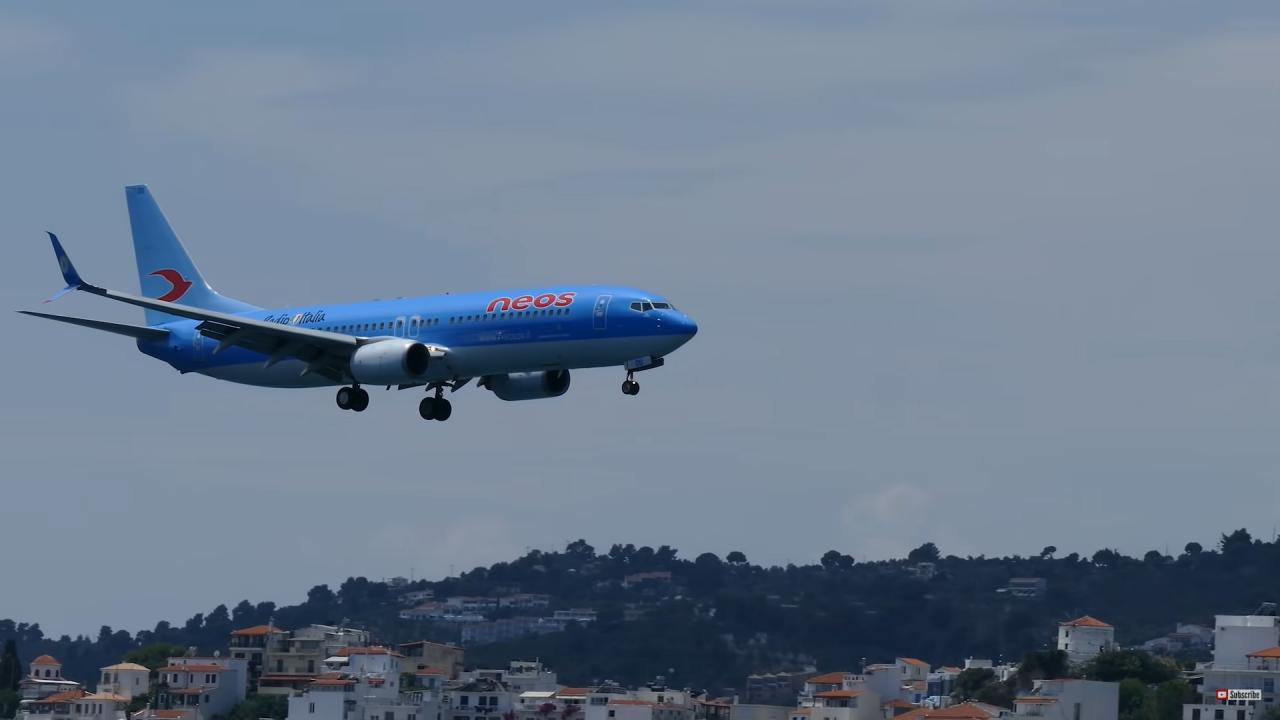Airplane: (10, 178, 706, 439)
